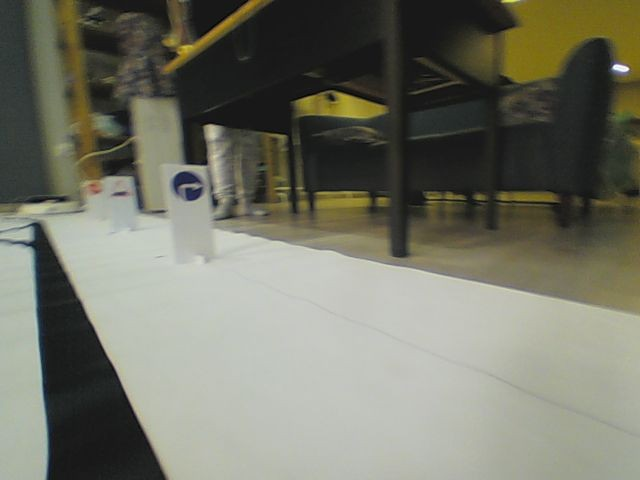Right: (171, 171, 204, 202)
